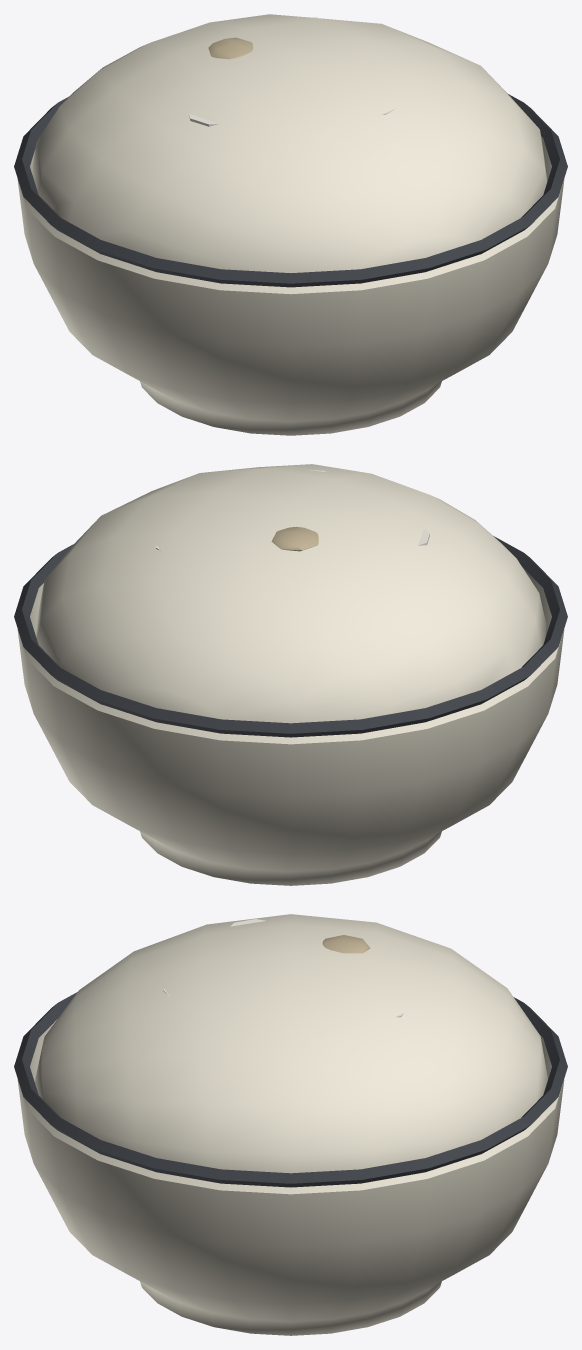
Rendered from cook_risen_dough.glb.
3 renders of one model, top to bottom at view 1: azimuth 30°, elevation 25°; view 2: azimuth 150°, elevation 25°; view 3: azimuth 270°, elevation 25°, orthographic.
Visible parts, largest first — view 1: body; view 2: body; view 3: body.
Boxes of the visible parts, bbox=[...] form: body: bbox=[14, 14, 567, 435]; body: bbox=[14, 464, 567, 885]; body: bbox=[14, 914, 567, 1335].
Bounding box in the file's own units: 0.0628 × 0.0396 × 0.0628.
